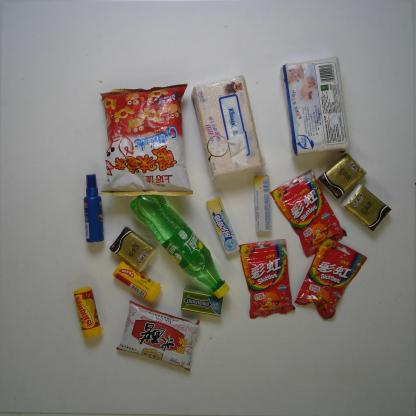Candy: (266, 170, 348, 260), (289, 235, 368, 323), (236, 234, 301, 320), (110, 261, 162, 306), (204, 196, 242, 256), (71, 282, 103, 340), (251, 167, 278, 235)
Drink: (124, 184, 230, 302)
Gum: (176, 286, 227, 318)
Personal Hygiene: (81, 171, 107, 245)
Puffed Food: (96, 81, 199, 203)
Seasoner: (111, 298, 204, 374)
Tissue: (188, 73, 272, 182), (277, 53, 350, 160), (336, 182, 395, 233), (319, 151, 368, 204), (107, 226, 160, 275)
